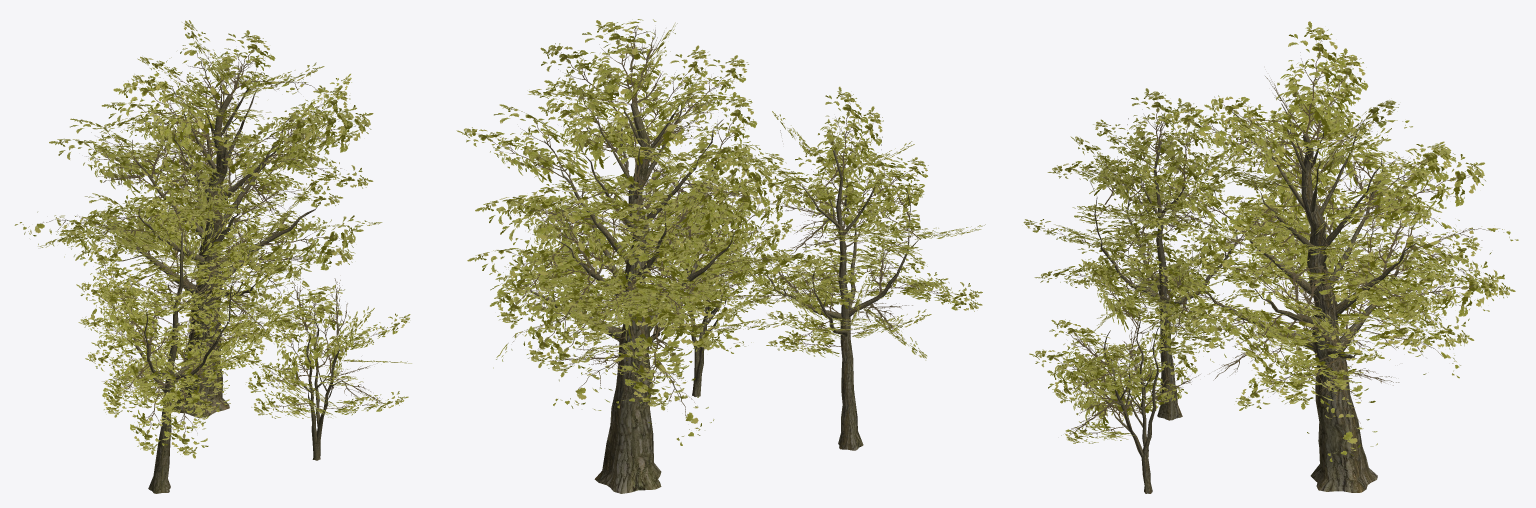
File: oak.glb
3 renders of one model, left to right at view 1: azimuth 30°, elevation 25°; view 2: azimuth 150°, elevation 25°; view 3: azimuth 270°, elevation 25°, orthographic. The views are drawn at different scales.
Bounding box in the file's own units: 5.79 × 6 × 6.08.
2 materials, 2 textured.
